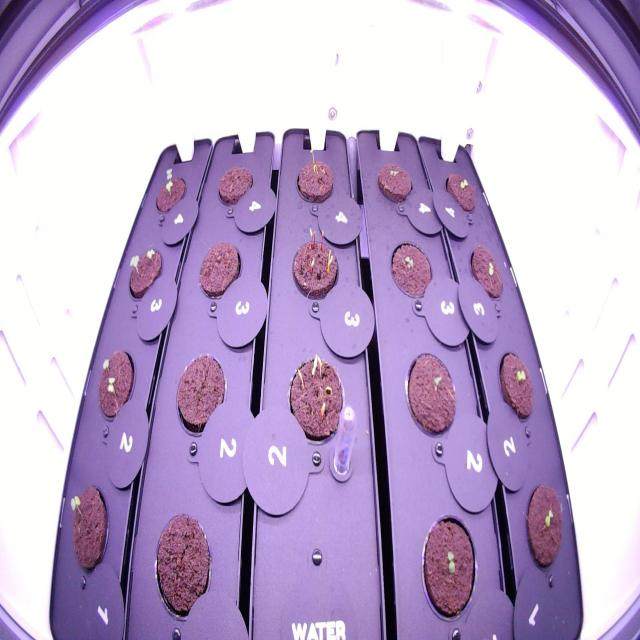germination: (414, 503, 484, 632), (280, 343, 352, 451), (398, 340, 461, 442), (283, 219, 343, 312), (519, 476, 569, 578), (66, 474, 112, 582), (382, 232, 438, 305), (492, 345, 541, 428), (94, 340, 138, 428), (289, 144, 342, 208), (120, 238, 167, 305), (464, 236, 508, 306), (147, 161, 192, 222), (372, 155, 417, 210), (438, 163, 482, 218)
pod: (145, 507, 218, 625), (168, 345, 230, 449), (192, 234, 245, 308), (212, 157, 255, 214)
